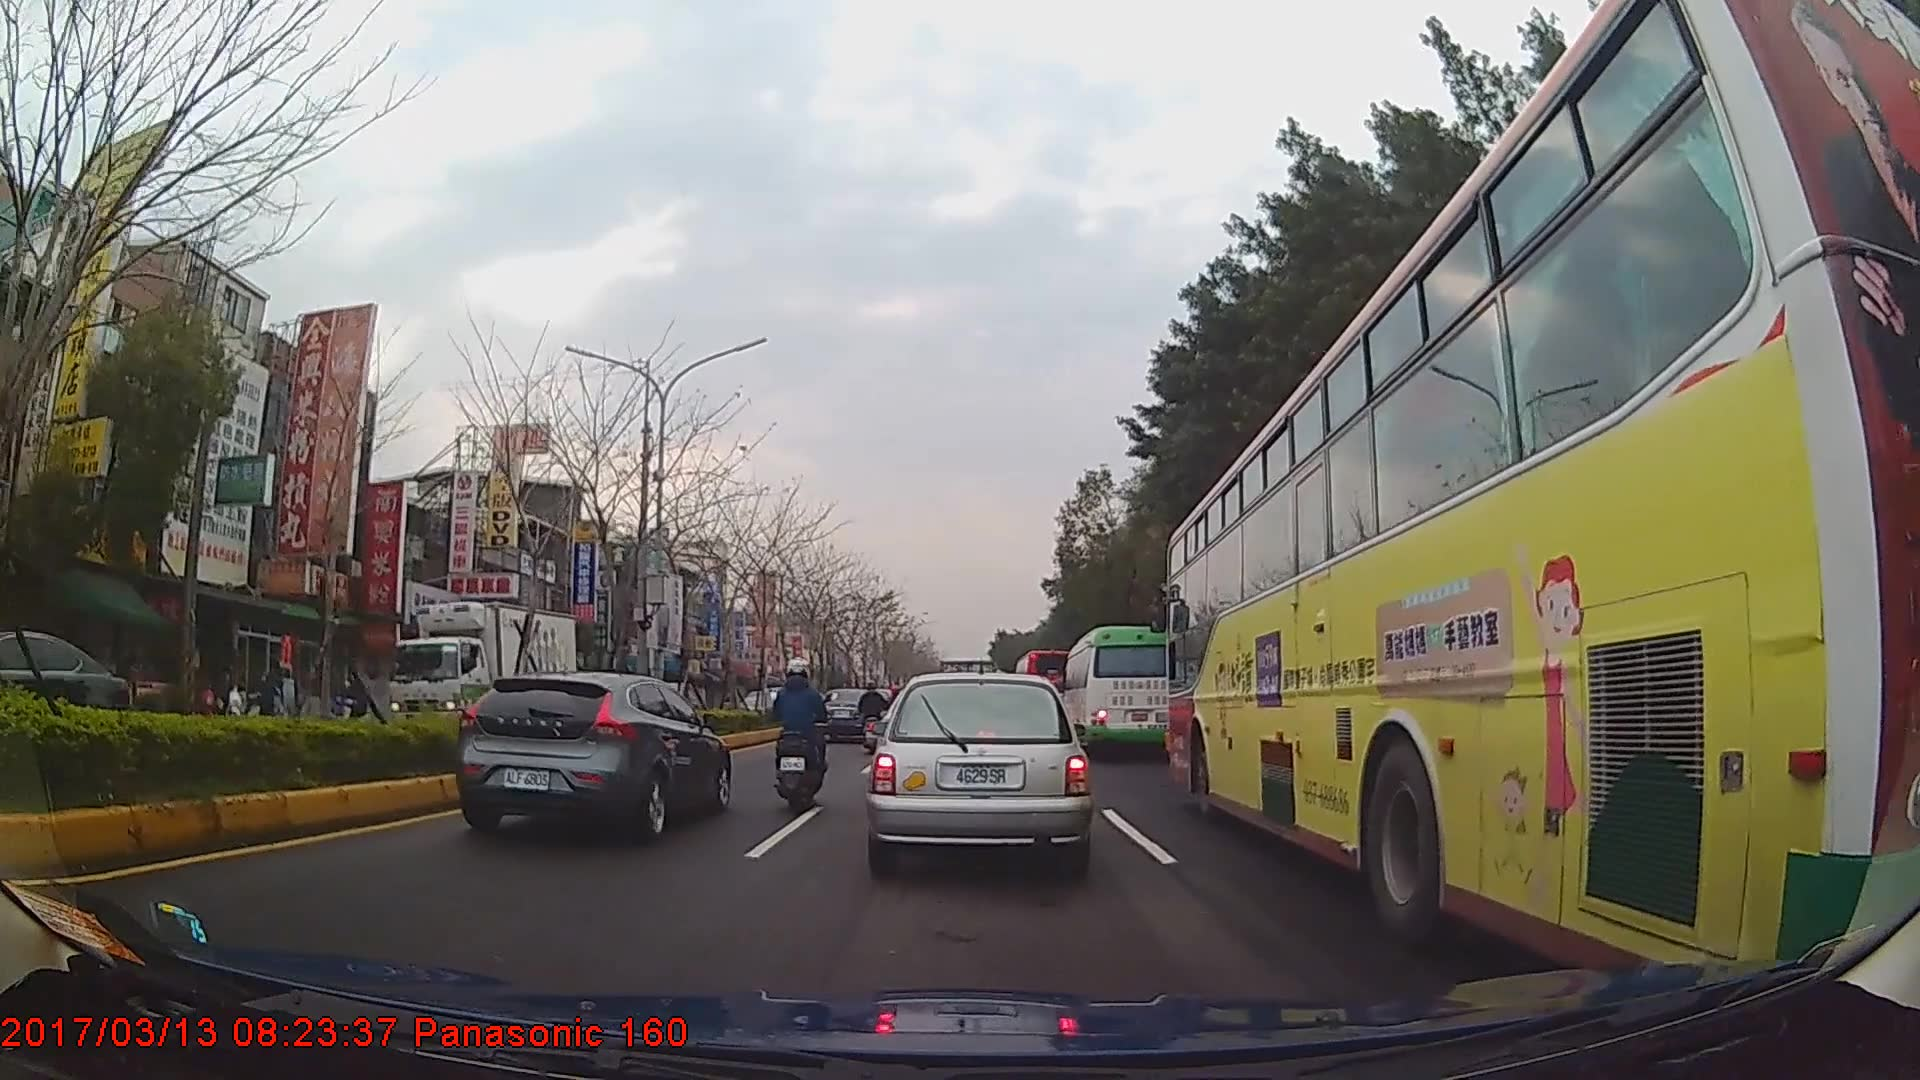rider: (771, 658, 834, 801), (859, 682, 891, 750), (329, 674, 368, 724), (248, 668, 278, 718)
vehicle: (1165, 0, 1920, 1030), (454, 668, 732, 843), (866, 674, 1090, 879), (385, 601, 578, 752), (0, 628, 130, 768), (1060, 625, 1176, 758), (1013, 645, 1077, 717), (817, 686, 876, 743)
